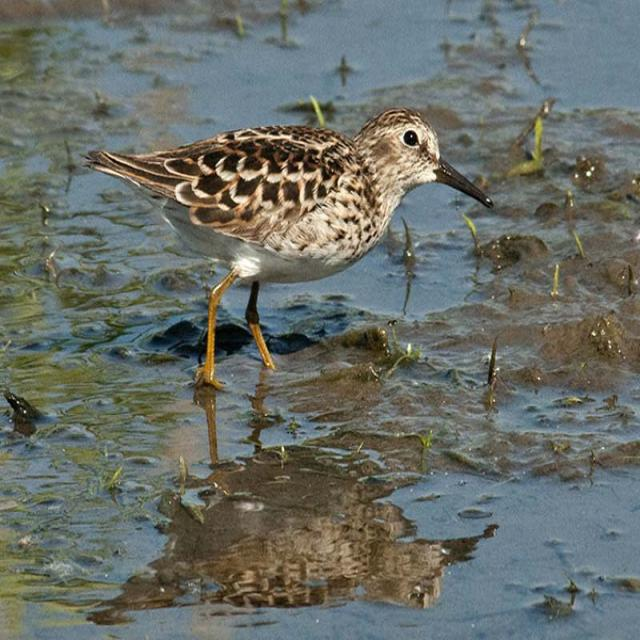Sandpiper: (93, 94, 496, 416)
